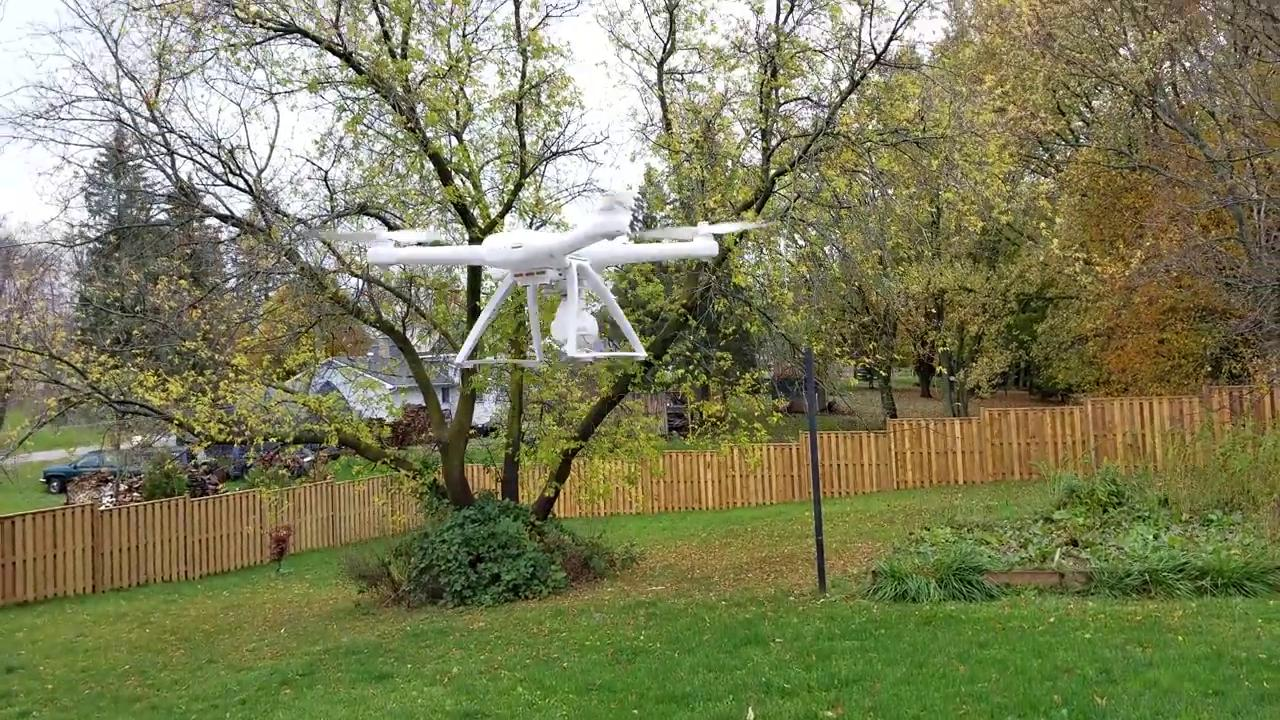drone: (342, 198, 778, 307)
